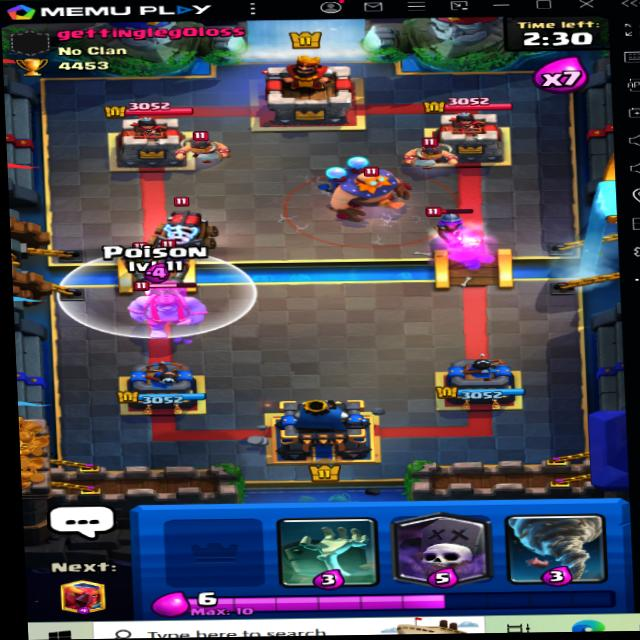Ebarbs: (400, 134, 454, 169), (176, 123, 228, 157)
Egiant: (306, 158, 417, 221)
Goblingiant: (124, 275, 209, 335)
Musketeer: (426, 205, 483, 248), (115, 237, 176, 277), (150, 242, 200, 284)
Sparky: (144, 196, 233, 256)
